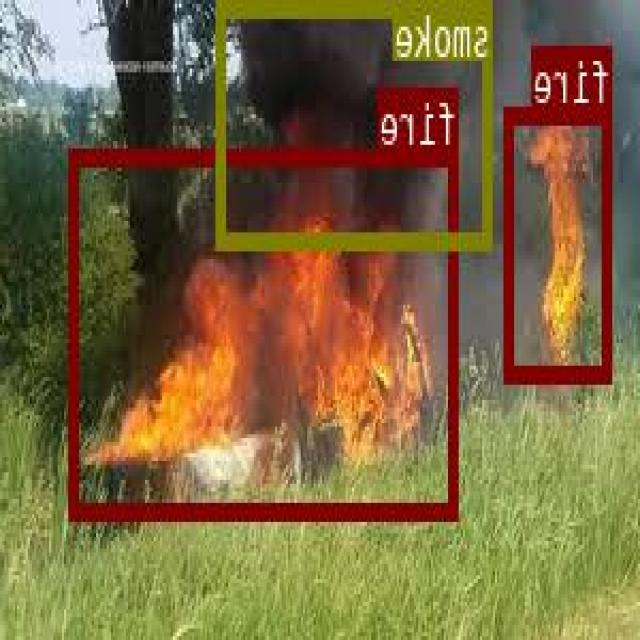fire: (72, 145, 459, 517), (508, 104, 613, 378)
smoke: (218, 0, 495, 244)
